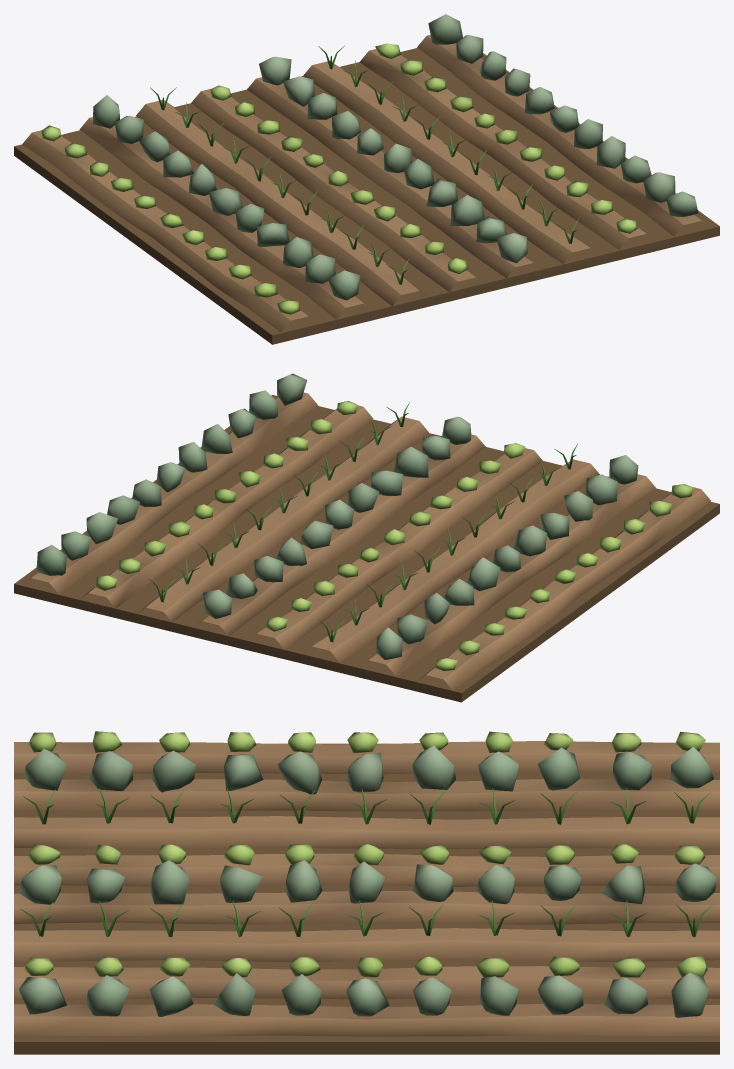
Rendered from huerta_rows.glb.
3 renders of one model, top to bottom at view 1: azimuth 30°, elevation 25°; view 2: azimuth 150°, elevation 25°; view 3: azimuth 270°, elevation 25°, orthographic. The views are drawn at different scales.
Parts seen in each view (by area): view 1: huerta_rows_mesh; view 2: huerta_rows_mesh; view 3: huerta_rows_mesh.
Boxes of the visible parts, box(x1,y1,x2,y2) form: huerta_rows_mesh: box(14, 14, 719, 344); huerta_rows_mesh: box(14, 373, 719, 702); huerta_rows_mesh: box(14, 731, 719, 1054).
Bounding box in the file's own units: 10 × 1.03 × 10.
